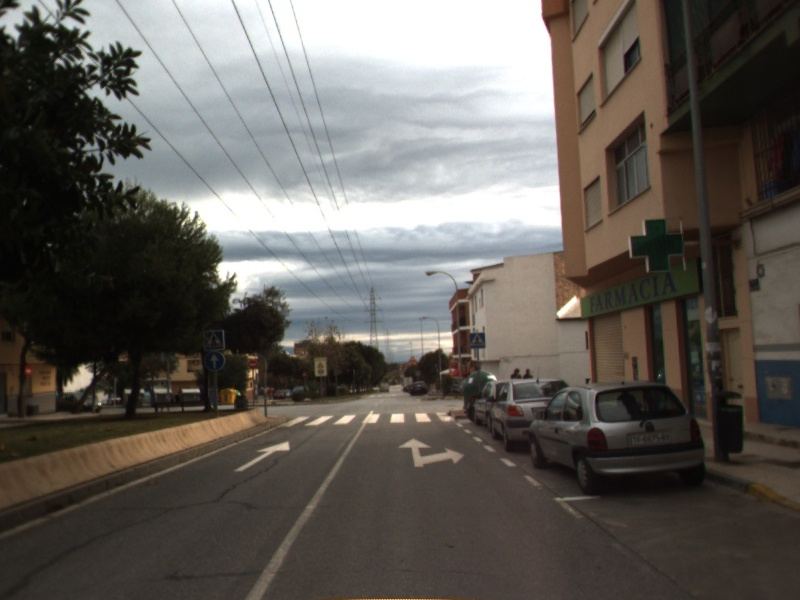STRAIGHT: (231, 439, 292, 474)
STRAIGHT_RIGHT: (396, 436, 467, 469)
